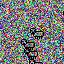sheep: (30, 27, 44, 39), (21, 39, 35, 50), (24, 48, 38, 59)
